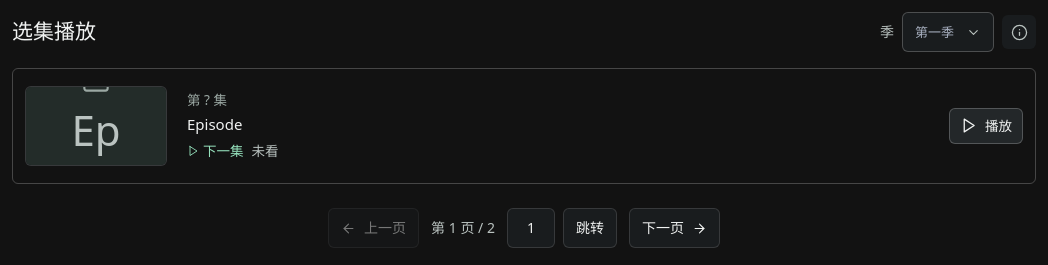
Scenario: paginates a long season with bounded requests
expect the button "Ep 暂无封面 第 ? 集 Episode 下一集 未看" is shown: met, box left=25, top=86, right=929, bottom=166
Step 1. Click the button "下一页" → [674, 228], box left=629, top=208, right=720, bottom=248
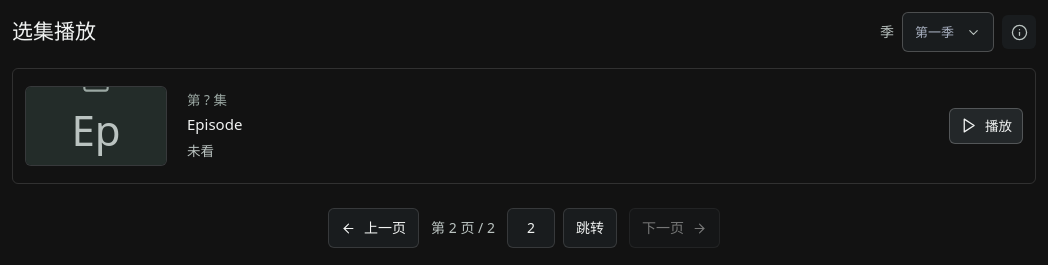
expect the button "下一页" is disabled: met, box left=629, top=208, right=720, bottom=248
